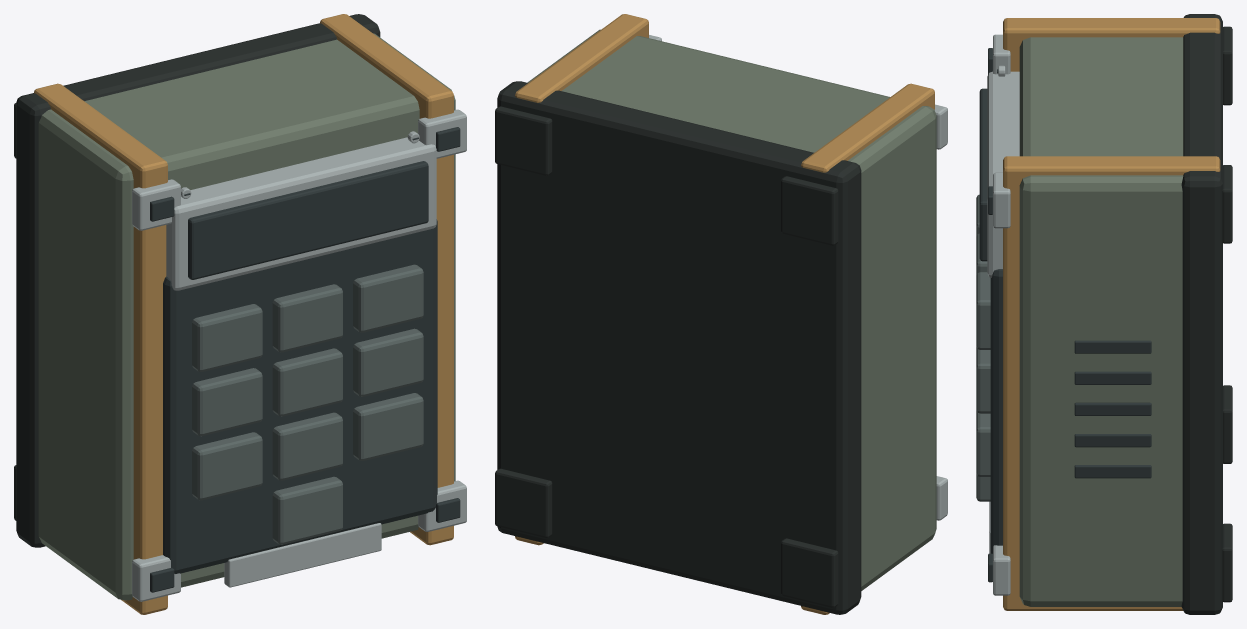
Rendered from bomb_chassis.glb.
3 views of the same model, side by side, from view 1: azimuth 30°, elevation 25°; view 2: azimuth 150°, elevation 25°; view 3: azimuth 270°, elevation 25° (orthographic).
Visible parts, largest first — view 1: DE_BombChassis; view 2: DE_BombChassis; view 3: DE_BombChassis.
Boxes of the visible parts, x1=… form: DE_BombChassis: x1=14, y1=14, x2=466, y2=614; DE_BombChassis: x1=495, y1=14, x2=947, y2=614; DE_BombChassis: x1=976, y1=14, x2=1232, y2=614.
Bounding box in the file's own units: 0.291 × 0.357 × 0.1865.
